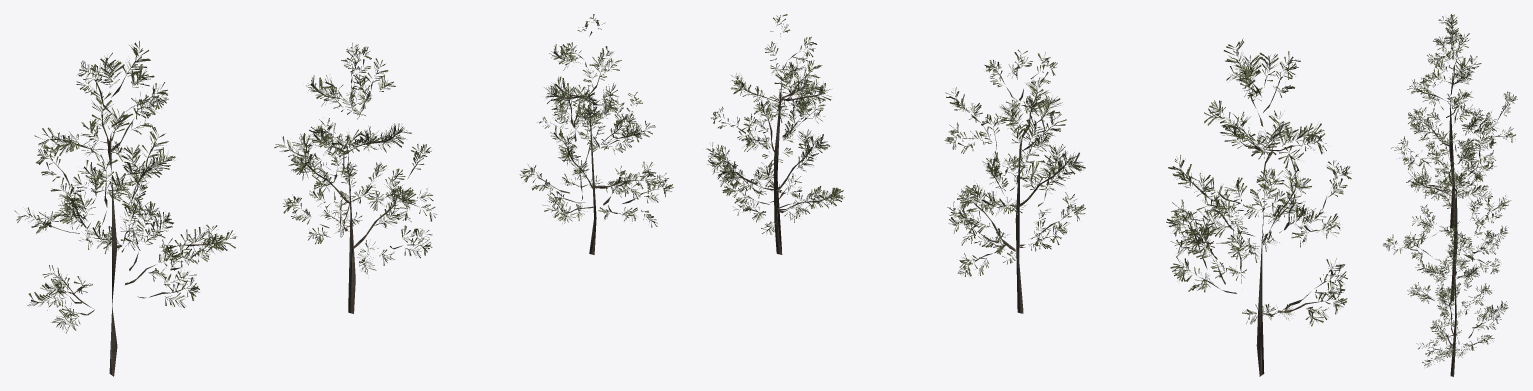
File: pine_sapling_small.glb
3 views of the same model, side by side, from view 1: azimuth 30°, elevation 25°; view 2: azimuth 150°, elevation 25°; view 3: azimuth 270°, elevation 25° (orthographic). The views are drawn at different scales.
Visible parts, largest first — view 1: pine_sapling_small_a, pine_sapling_small_b, pine_sapling_small_c; view 2: pine_sapling_small_a, pine_sapling_small_b, pine_sapling_small_c; view 3: pine_sapling_small_a, pine_sapling_small_b, pine_sapling_small_c.
Boxes of the visible parts, x1,y1,x2,y2 form: pine_sapling_small_a: (14,41,236,376); pine_sapling_small_b: (274,43,437,313); pine_sapling_small_c: (519,14,673,254); pine_sapling_small_a: (1166,38,1351,376); pine_sapling_small_b: (944,49,1085,313); pine_sapling_small_c: (706,14,844,254); pine_sapling_small_a: (1391,14,1517,228); pine_sapling_small_b: (1383,133,1511,301); pine_sapling_small_c: (1407,222,1508,376).
Size of the model in its own units: 2.64 by 1.3 by 0.7677.
Materials: 2 (2 with a texture image).
